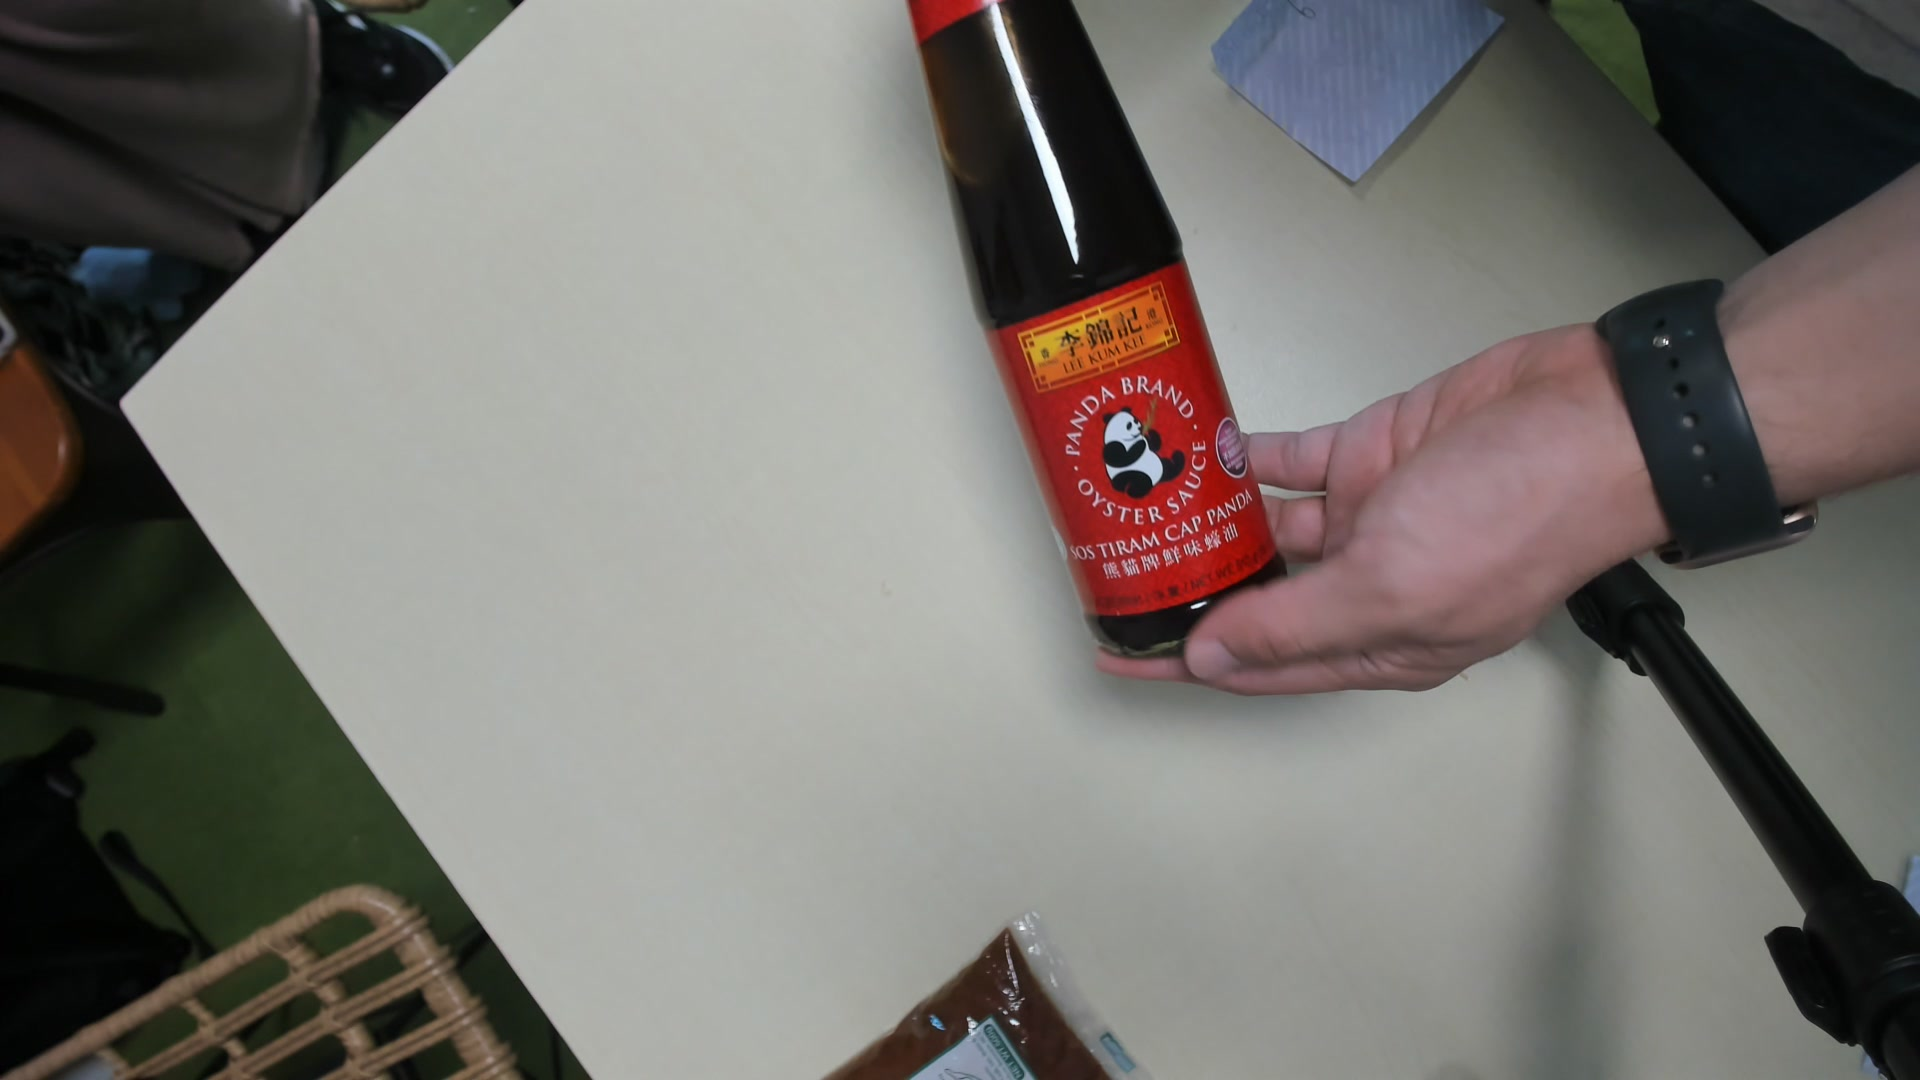OtherSauceDressingSoupbasePaste_500-599g_Halal_NonHealthy: (910, 7, 1291, 680)
